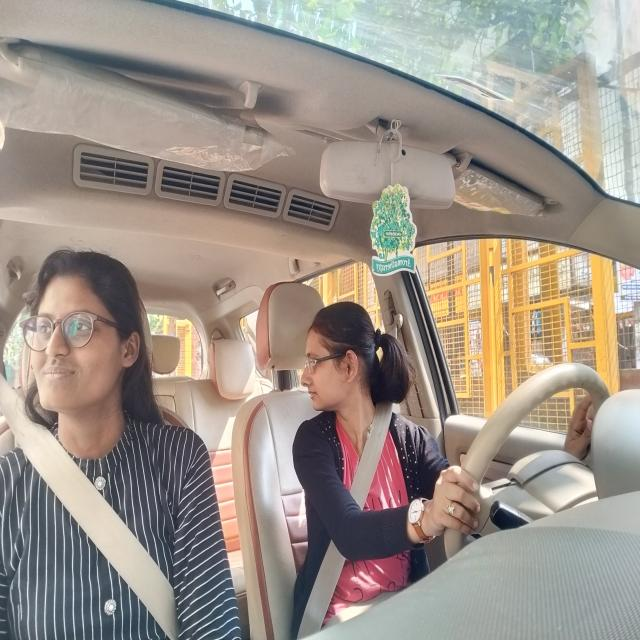LeftRight: (295, 301, 385, 432)
person: (19, 236, 147, 447)
